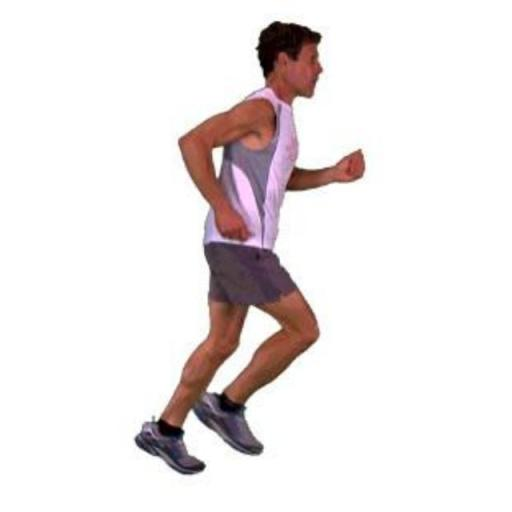Running: (134, 25, 368, 469)
